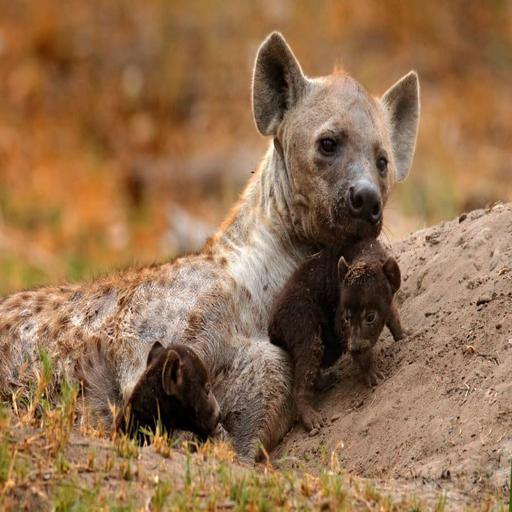Hyena: (0, 33, 427, 469), (262, 229, 416, 442), (105, 338, 241, 473)
